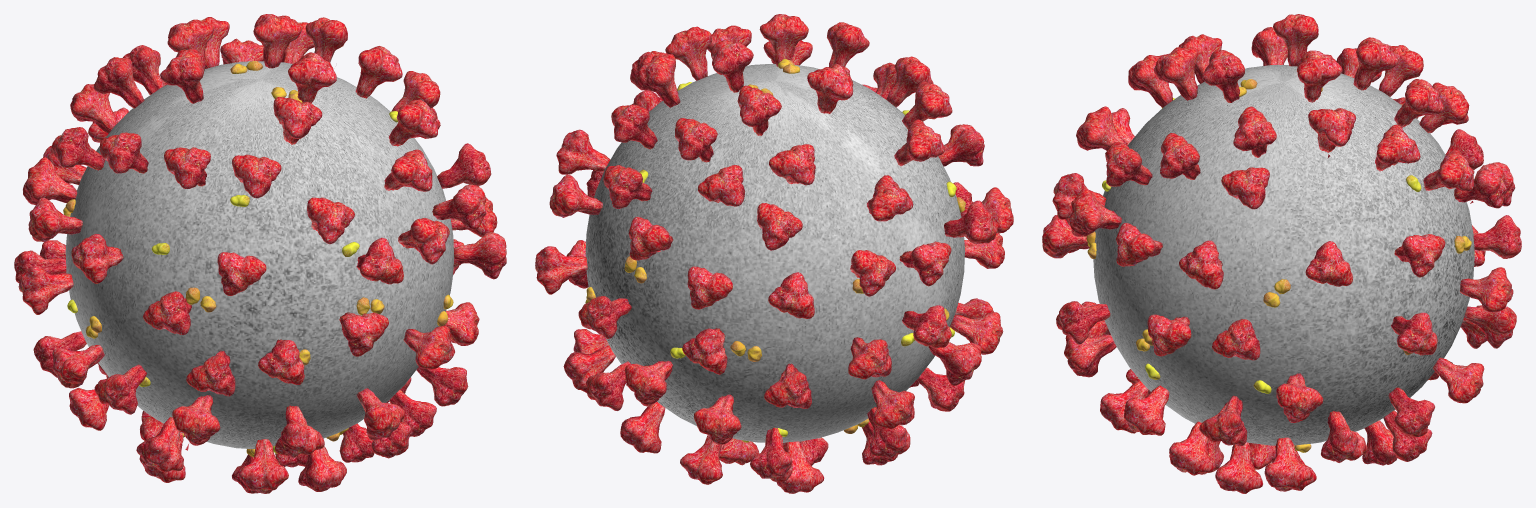
3 views of the same model, side by side, from view 1: azimuth 30°, elevation 25°; view 2: azimuth 150°, elevation 25°; view 3: azimuth 270°, elevation 25° (orthographic). The views are drawn at different scales.
Parts seen in each view (by area): view 1: parts_gray, parts_red, parts_orenge, parts_yellow; view 2: parts_gray, parts_red, parts_orenge, parts_yellow; view 3: parts_gray, parts_red, parts_orenge, parts_yellow.
Part boxes in pixels (bbox=[...]): parts_gray: bbox=[65, 61, 454, 448]; parts_red: bbox=[14, 14, 506, 493]; parts_orenge: bbox=[63, 61, 453, 457]; parts_yellow: bbox=[67, 111, 397, 453]; parts_gray: bbox=[585, 64, 964, 442]; parts_red: bbox=[535, 14, 1013, 493]; parts_orenge: bbox=[585, 59, 965, 433]; parts_yellow: bbox=[639, 82, 956, 442]; parts_gray: bbox=[1093, 65, 1474, 445]; parts_red: bbox=[1042, 14, 1521, 493]; parts_orenge: bbox=[1086, 79, 1471, 452]; parts_yellow: bbox=[1102, 98, 1421, 393].
Size of the model in its own units: 2.45 by 2.48 by 2.48.
Materials: 1 (1 with a texture image).
